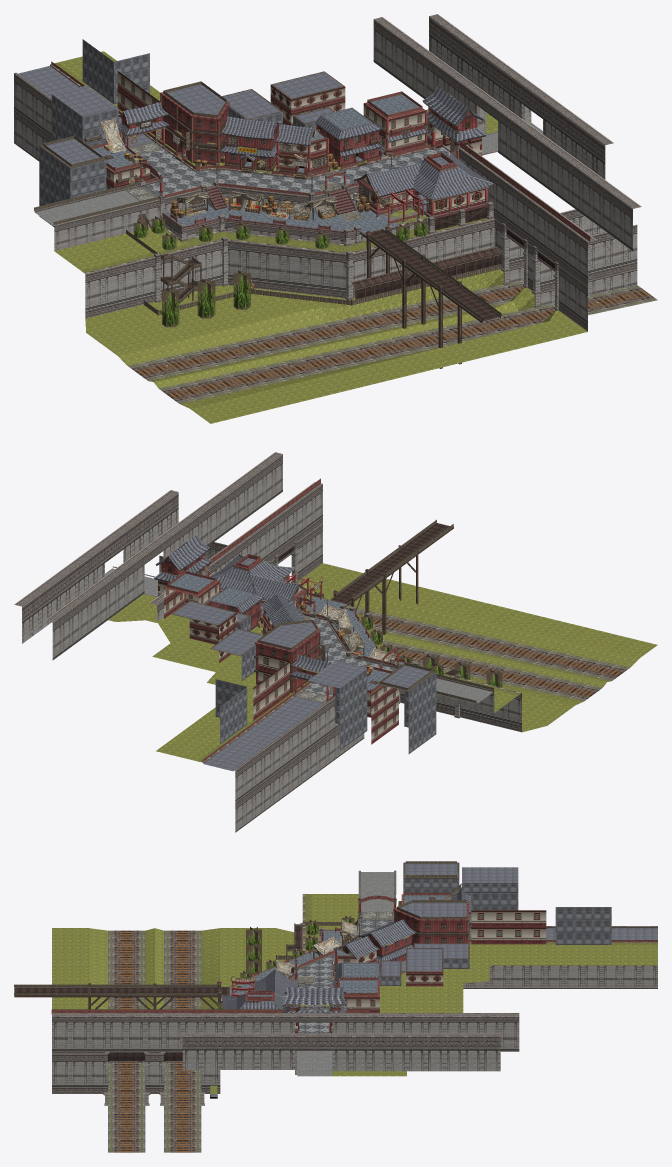
File: EastStreet.glb
3 views of the same model, one above another, from view 1: azimuth 30°, elevation 25°; view 2: azimuth 150°, elevation 25°; view 3: azimuth 270°, elevation 25° (orthographic). The views are drawn at different scales.
Visible parts, largest first — view 1: Object.1250, Object.1254, Object.1253, Object.1233, Object.1263, Object.1328, Object.1252, Object.1329, Object.1234, Object.1307, Object.1230, Object.1243 (+92 smaller); view 2: Object.1252, Object.1250, Object.1258, Object.1259, Object.1254, Object.1253, Object.1319, Object.1327, Object.1320, Object.1321, Object.1427, Object.1256 (+46 smaller); view 3: Object.1252, Object.1250, Object.1254, Object.1253, Object.1256, Object.1257, Object.1231, Object.1460, Object.1251, Object.1456, Object.1328, Object.1258 (+58 smaller).
Part boxes in pixels (x1=…): Object.1250: x1=394, y1=24, x2=489, y2=98; Object.1254: x1=509, y1=112, x2=613, y2=190; Object.1253: x1=477, y1=82, x2=572, y2=159; Object.1233: x1=193, y1=221, x2=303, y2=291; Object.1263: x1=85, y1=257, x2=155, y2=318; Object.1328: x1=86, y1=315, x2=198, y2=365; Object.1252: x1=436, y1=52, x2=530, y2=118; Object.1329: x1=158, y1=298, x2=271, y2=350; Object.1234: x1=304, y1=230, x2=396, y2=300; Object.1307: x1=230, y1=288, x2=342, y2=334; Object.1230: x1=458, y1=216, x2=523, y2=285; Object.1243: x1=554, y1=232, x2=637, y2=302; Object.1252: x1=60, y1=544, x2=144, y2=619; Object.1250: x1=31, y1=571, x2=107, y2=646; Object.1258: x1=253, y1=730, x2=290, y2=818; Object.1259: x1=290, y1=703, x2=327, y2=791; Object.1254: x1=134, y1=490, x2=209, y2=549; Object.1253: x1=97, y1=517, x2=190, y2=564; Object.1319: x1=375, y1=586, x2=481, y2=625; Object.1327: x1=503, y1=614, x2=593, y2=653; Object.1320: x1=439, y1=602, x2=529, y2=639; Object.1321: x1=566, y1=629, x2=657, y2=667; Object.1427: x1=408, y1=672, x2=436, y2=753; Object.1256: x1=238, y1=452, x2=282, y2=518; Object.1252: x1=332, y1=1013, x2=406, y2=1071; Object.1250: x1=407, y1=1013, x2=481, y2=1071; Object.1254: x1=182, y1=1013, x2=274, y2=1069; Object.1253: x1=240, y1=1013, x2=332, y2=1069; Object.1256: x1=52, y1=1013, x2=126, y2=1050; Object.1257: x1=126, y1=1013, x2=201, y2=1050; Object.1231: x1=52, y1=1054, x2=109, y2=1103; Object.1460: x1=471, y1=910, x2=545, y2=944; Object.1251: x1=465, y1=1013, x2=519, y2=1071; Object.1456: x1=555, y1=907, x2=611, y2=944; Object.1328: x1=201, y1=928, x2=276, y2=963; Object.1258: x1=545, y1=927, x2=620, y2=988.
Bounding box in the file's own units: 106 × 30.85 × 138.
21 materials, 21 textured.
